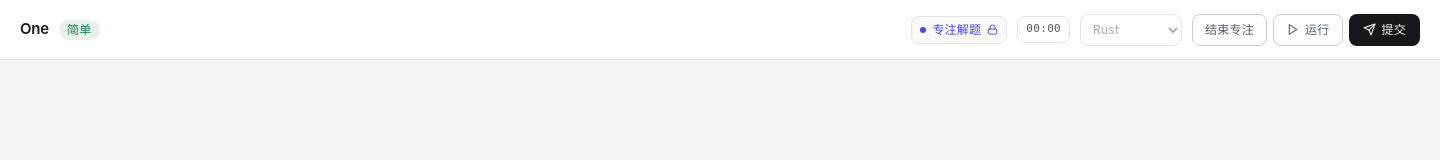
Test: keeps a submission pending across navigation and shows a later failure
Later steps or results of the test are not shown.
Click the button "提交": (1384, 30) [1348,14,1420,46]
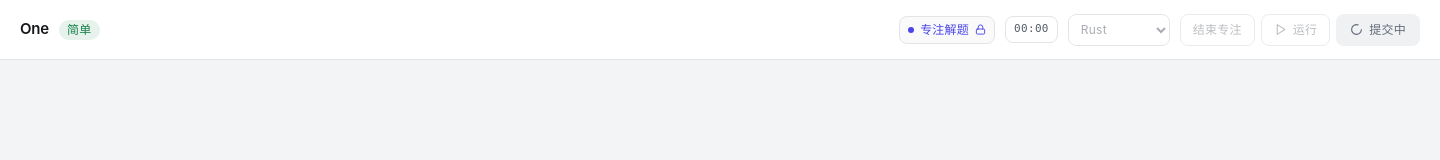
Expected: the button "提交中" is disabled, [1336,14,1420,46]
